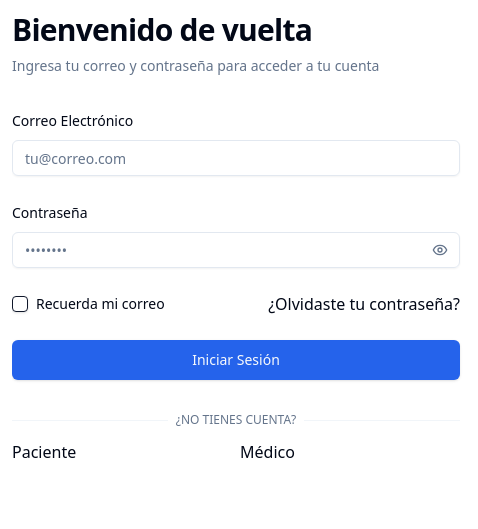
it: LoginForm › Validación › debe mostrar error con email inválido
Type "no-es-email" into the field with id "email".
click(236, 158); type("no-es-email")  # box [12, 140, 460, 176]
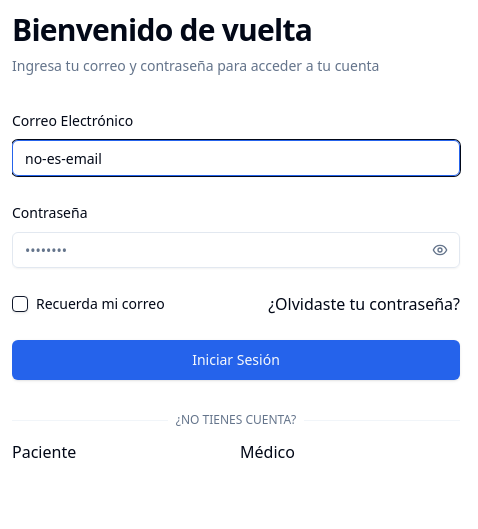
Submit the form, box [12, 108, 460, 380]
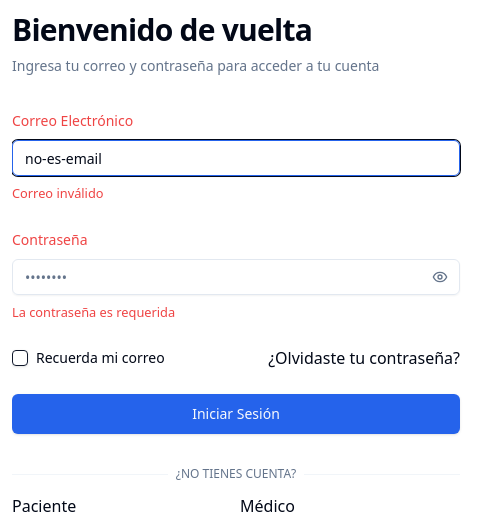
Now the text "Correo inválido" is shown, box [12, 184, 104, 202]
